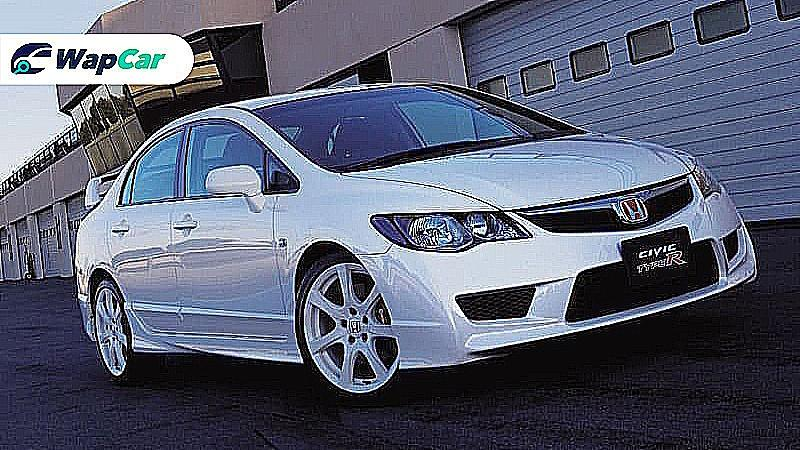Car hood: (340, 133, 703, 211)
Driver-s door - -F-R-: (170, 103, 298, 367)
Fender - -F-R-: (272, 161, 435, 322)
Fender - -R-R-: (75, 177, 121, 303)
Front bumper: (362, 190, 764, 378)
Headlight - -L-: (691, 156, 724, 204)
Headlight - -R-: (370, 211, 532, 252)
Passenger-s door - -R-R-: (103, 107, 184, 359)
Rear bumper: (69, 289, 100, 345)
Side bumper - -R-: (124, 324, 305, 376)
Side mirror - -R-: (205, 164, 266, 215)
